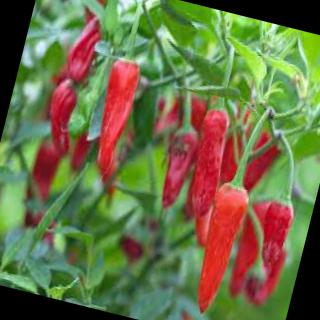Cabai Merah: (189, 182, 254, 320), (84, 58, 146, 185), (180, 108, 238, 222), (153, 127, 201, 215), (40, 79, 87, 160), (253, 200, 297, 274), (64, 14, 107, 86)
